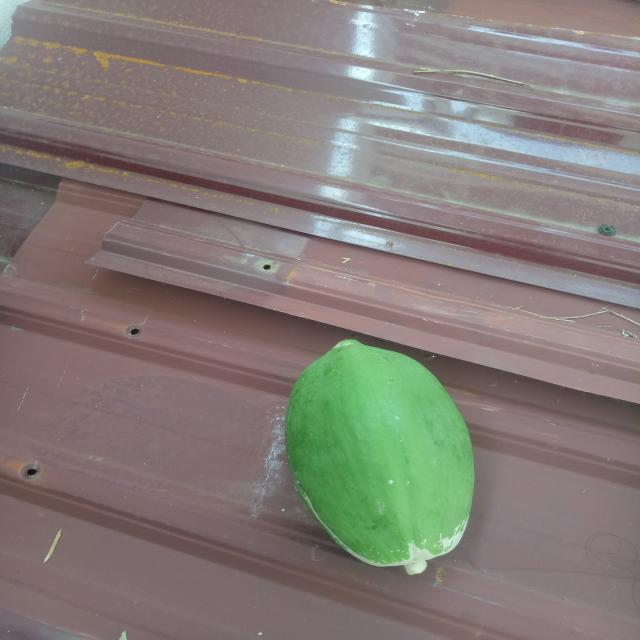Pepaya unrippen: (285, 331, 474, 573)
